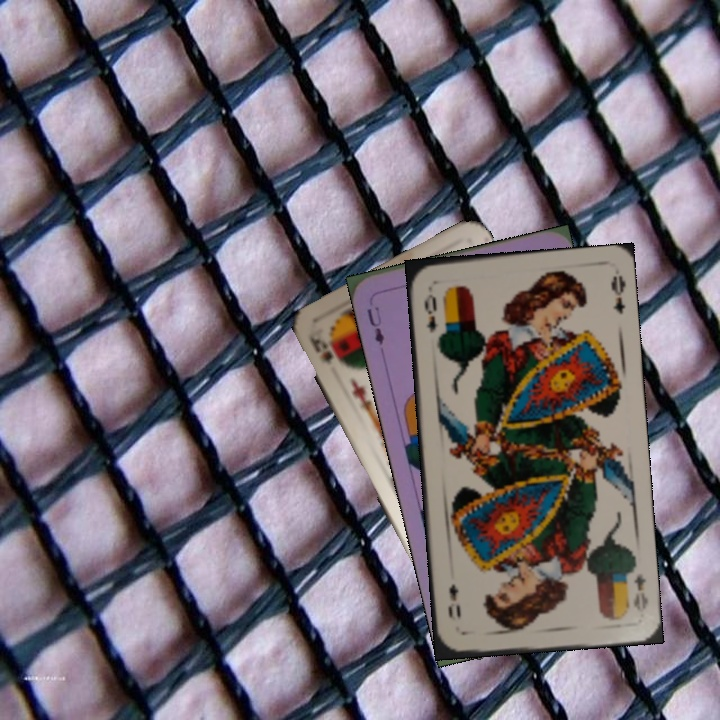EO: (420, 283, 440, 335), (629, 569, 651, 615)
EU: (363, 302, 387, 348)
SK: (304, 325, 336, 367)
